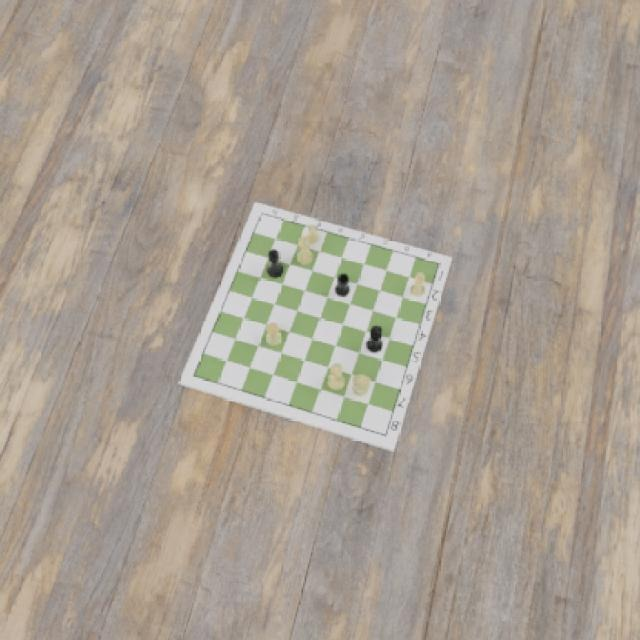black-king: (365, 325, 383, 353)
black-pawn: (335, 270, 350, 297)
white-bishop: (410, 270, 425, 297)
white-king: (297, 233, 315, 267)
white-knight: (352, 373, 372, 398)
white-pawn: (303, 223, 320, 244)
white-queen: (328, 363, 346, 393), (267, 249, 283, 280)
white-rook: (264, 320, 283, 348)
